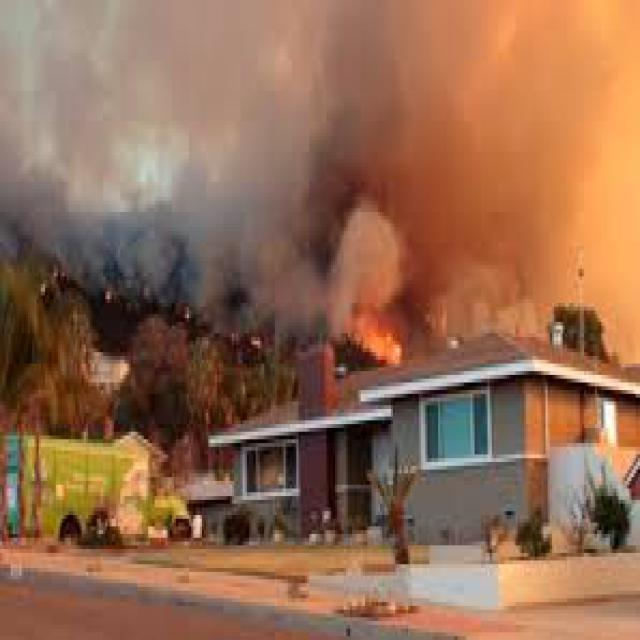Fire: (346, 313, 412, 378)
Smoke: (0, 0, 640, 312)
